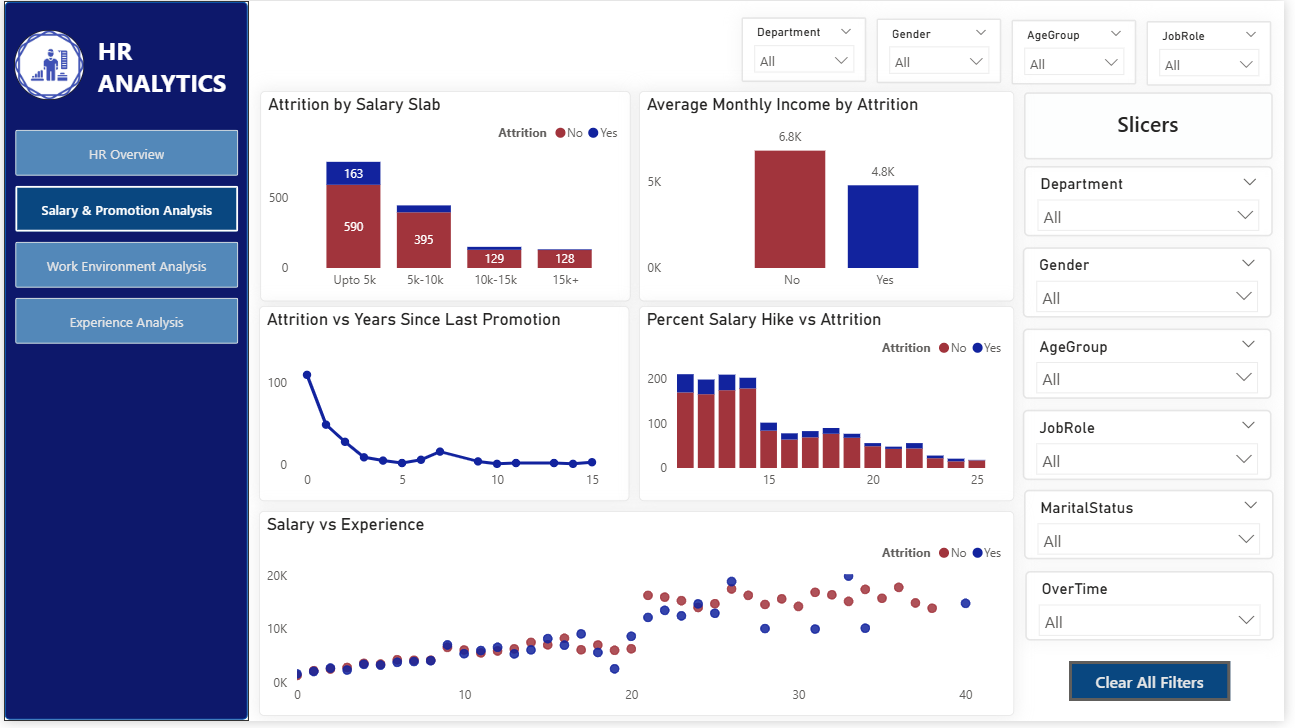

What the dashboard file says about the page in this screenshot:
{"tool":"powerbi","page":{"name":"Salary & Promotion Analysis","canvas":[1280,720],"ordinal":1},"visuals":[{"type":"slicer","fields":{"Values":["HR_Analytics.Department"]},"box":[737.5,15.7,125,65],"z":0},{"type":"slicer","fields":{"Values":["HR_Analytics.AgeGroup"]},"box":[1007.3,18.4,125,65],"z":1000},{"type":"slicer","fields":{"Values":["HR_Analytics.JobRole"]},"box":[1142.2,19.7,125,65],"z":2000},{"type":"slicer","fields":{"Values":["HR_Analytics.Gender"]},"box":[872.4,17.1,125,65],"z":3000},{"type":"slicer","fields":{"Values":["HR_Analytics.Department"]},"box":[1020,165,248.8,70],"z":4000},{"type":"slicer","fields":{"Values":["HR_Analytics.AgeGroup"]},"box":[1019.3,327.2,248.8,70],"z":5000},{"type":"slicer","fields":{"Values":["HR_Analytics.JobRole"]},"box":[1019.3,408.3,248.8,70],"z":6000},{"type":"slicer","fields":{"Values":["HR_Analytics.Gender"]},"box":[1019.3,246.1,248.8,70],"z":7000},{"type":"slicer","fields":{"Values":["HR_Analytics.MaritalStatus"]},"box":[1019.4,489.4,249.7,70],"z":8000},{"type":"textbox","box":[1019.4,91.7,248.5,67.6],"z":9000},{"type":"columnChart","title":"Attrition by Salary Slab","fields":{"Series":["HR_Analytics.Attrition"],"Category":["HR_Analytics.SalarySlab"],"Y":["CountNonNull(HR_Analytics.EmpID)"]},"box":[256.2,90,370,210],"z":11000},{"type":"clusteredColumnChart","title":"Average Monthly Income by Attrition","fields":{"Category":["HR_Analytics.Attrition"],"Y":["Avg(HR_Analytics.MonthlyIncome)"]},"box":[635,90,375,210],"z":12000},{"type":"slicer","fields":{"Values":["HR_Analytics.OverTime"]},"box":[1020.6,570.4,248.5,70],"z":13000},{"type":"lineChart","title":"Attrition vs Years Since Last Promotion","fields":{"Category":["HR_Analytics.YearsSinceLastPromotion"],"Y":["CountNonNull(HR_Analytics.EmpID)"]},"box":[255,305,370,195],"z":14000},{"type":"columnChart","title":"Percent Salary Hike vs Attrition","fields":{"Category":["HR_Analytics.PercentSalaryHike"],"Y":["CountNonNull(HR_Analytics.EmpID)"],"Series":["HR_Analytics.Attrition"]},"box":[635,305,375,195],"z":15000},{"type":"scatterChart","title":"Salary vs Experience","fields":{"Y":["Avg(HR_Analytics.MonthlyIncome)"],"Series":["HR_Analytics.Attrition"],"X":["HR_Analytics.TotalWorkingYears"]},"box":[255,510,755,205],"z":16000},{"type":"shape","box":[0,0,245,720],"z":17000},{"type":"textbox","box":[89,28.7,150,76.2],"z":18000},{"type":"pageNavigator","box":[11.2,128.8,223.8,216.2],"z":19000},{"type":"image","box":[10.2,28.7,70,70],"z":20000},{"type":"actionButton","box":[1065,660,161.2,40],"z":20001}]}

Visuals, with their boxes in screenshot pixels (x1, y1, x2, y2), scaled from the page's 1280x720 canvas onto the 1295x728 screenshot:
slicer - HR_Analytics.Department: (x1=746, y1=16, x2=873, y2=82)
slicer - HR_Analytics.AgeGroup: (x1=1019, y1=19, x2=1146, y2=84)
slicer - HR_Analytics.JobRole: (x1=1156, y1=20, x2=1282, y2=86)
slicer - HR_Analytics.Gender: (x1=883, y1=17, x2=1009, y2=83)
slicer - HR_Analytics.Department: (x1=1032, y1=167, x2=1284, y2=238)
slicer - HR_Analytics.AgeGroup: (x1=1031, y1=331, x2=1283, y2=402)
slicer - HR_Analytics.JobRole: (x1=1031, y1=413, x2=1283, y2=484)
slicer - HR_Analytics.Gender: (x1=1031, y1=249, x2=1283, y2=320)
slicer - HR_Analytics.MaritalStatus: (x1=1031, y1=495, x2=1284, y2=566)
textbox: (x1=1031, y1=93, x2=1283, y2=161)
"Attrition by Salary Slab" columnChart: (x1=259, y1=91, x2=634, y2=303)
"Average Monthly Income by Attrition" clusteredColumnChart: (x1=642, y1=91, x2=1022, y2=303)
slicer - HR_Analytics.OverTime: (x1=1033, y1=577, x2=1284, y2=648)
"Attrition vs Years Since Last Promotion" lineChart: (x1=258, y1=308, x2=632, y2=506)
"Percent Salary Hike vs Attrition" columnChart: (x1=642, y1=308, x2=1022, y2=506)
"Salary vs Experience" scatterChart: (x1=258, y1=516, x2=1022, y2=723)
shape: (x1=0, y1=0, x2=248, y2=727)
textbox: (x1=90, y1=29, x2=242, y2=106)
pageNavigator: (x1=11, y1=130, x2=238, y2=349)
image: (x1=10, y1=29, x2=81, y2=100)
actionButton: (x1=1077, y1=667, x2=1241, y2=708)
